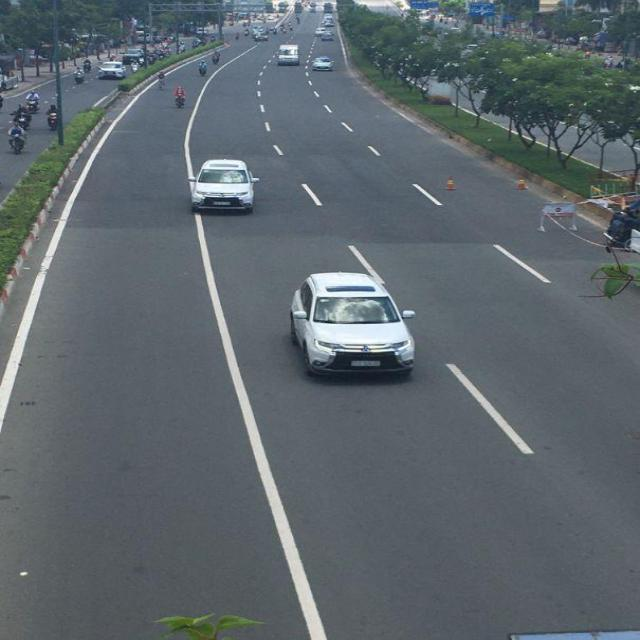car: (288, 269, 416, 377), (192, 160, 259, 213), (277, 44, 300, 65), (99, 62, 124, 81), (312, 57, 334, 72)
motorcycle: (10, 128, 26, 152), (172, 87, 186, 108)
